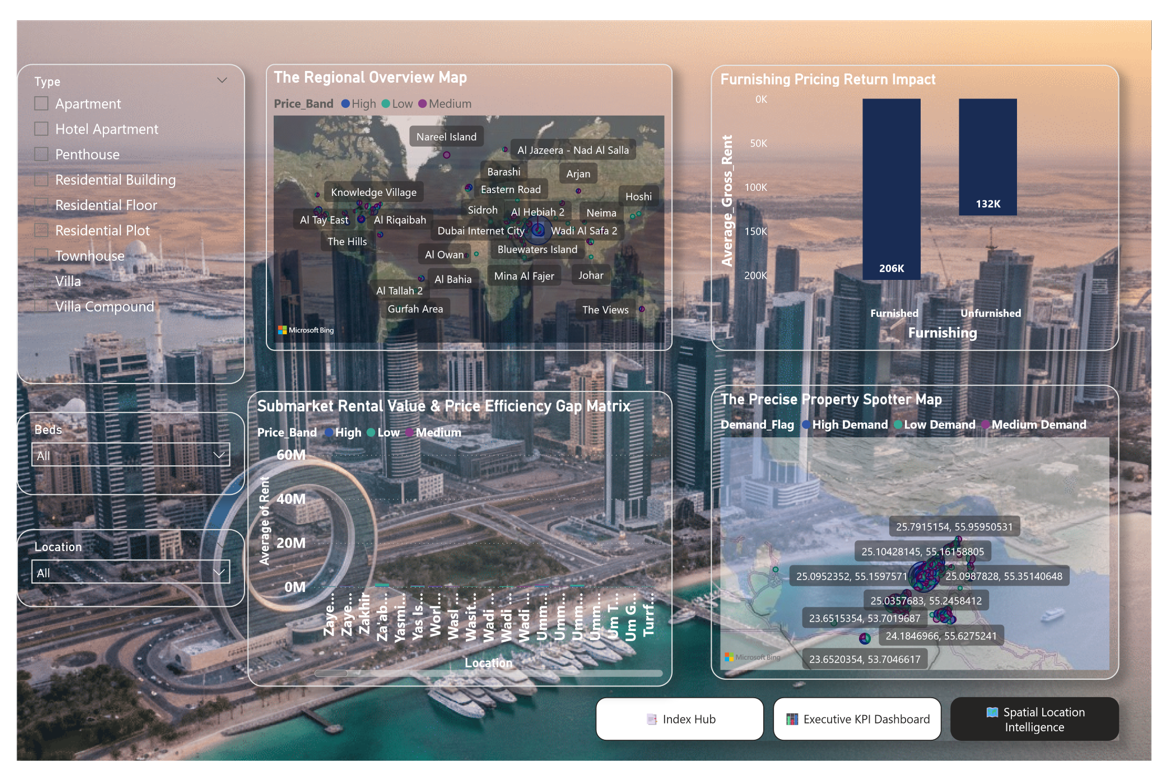

This screenshot's page, from the dashboard's own definition file:
{"tool":"powerbi","page":{"name":"🗺️ Spatial Location Intelligence","canvas":[1298,847],"ordinal":2},"visuals":[{"type":"pageNavigator","box":[662,773.8,599,50.2],"z":0},{"type":"map","title":"The Regional Overview Map","fields":{"Category":["dubai_properties Data.Location"],"Size":["dubai_properties Data.Average_Gross_Rent"],"Series":["dubai_properties Data.Price_Band"]},"box":[285.5,49.7,464.6,328],"z":1000},{"type":"map","title":"The Precise Property Spotter Map","fields":{"Series":["dubai_properties Data.Demand_Flag"],"Y":["dubai_properties Data.Latitude"],"X":["dubai_properties Data.Longitude"],"Size":["dubai_properties Data.Average_Gross_Rent"]},"box":[794.4,416.7,466.4,336.9],"z":2000},{"type":"slicer","fields":{"Values":["dubai_properties Data.Type"]},"box":[0,49.9,260.8,366.3],"z":3000},{"type":"slicer","fields":{"Values":["dubai_properties Data.Beds"]},"box":[0,447.6,260.8,95.5],"z":4000},{"type":"slicer","fields":{"Values":["dubai_properties Data.Location"]},"box":[0,581.6,260.8,89.8],"z":5000},{"type":"clusteredColumnChart","title":"Furnishing Pricing Return Impact","fields":{"Category":["dubai_properties Data.Furnishing"],"Y":["dubai_properties Data.Average_Gross_Rent"]},"box":[794.4,51.4,466.4,326.3],"z":6000},{"type":"columnChart","title":"Submarket Rental Value & Price Efficiency Gap Matrix","fields":{"Category":["dubai_properties Data.Location"],"Y":["Avg(dubai_properties Data.Rent)"],"Series":["dubai_properties Data.Price_Band"]},"box":[264.2,423.8,485.9,338.7],"z":7000}]}

Visuals, with their boxes in screenshot pixels (x1, y1, x2, y2), scaled from the page's 1298x847 canvas onto the 1170x780 screenshot:
pageNavigator: x1=597, y1=713, x2=1137, y2=759
"The Regional Overview Map" map: x1=257, y1=46, x2=676, y2=348
"The Precise Property Spotter Map" map: x1=716, y1=384, x2=1136, y2=694
slicer - dubai_properties Data.Type: x1=0, y1=46, x2=235, y2=383
slicer - dubai_properties Data.Beds: x1=0, y1=412, x2=235, y2=500
slicer - dubai_properties Data.Location: x1=0, y1=536, x2=235, y2=618
"Furnishing Pricing Return Impact" clusteredColumnChart: x1=716, y1=47, x2=1136, y2=348
"Submarket Rental Value & Price Efficiency Gap Matrix" columnChart: x1=238, y1=390, x2=676, y2=702
